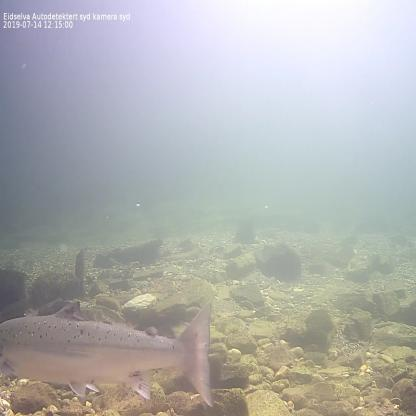salmon: (0, 296, 216, 410)
